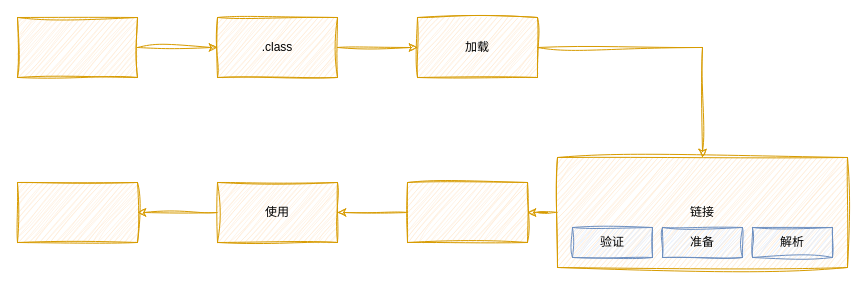
Image size: 865x285. Some labels were removed from this diagram. Each missing label, with the centre of its shape:
".java" belongs at [77,47].
"初始化" belongs at [467,212].
"卸载" belongs at [77,212].
